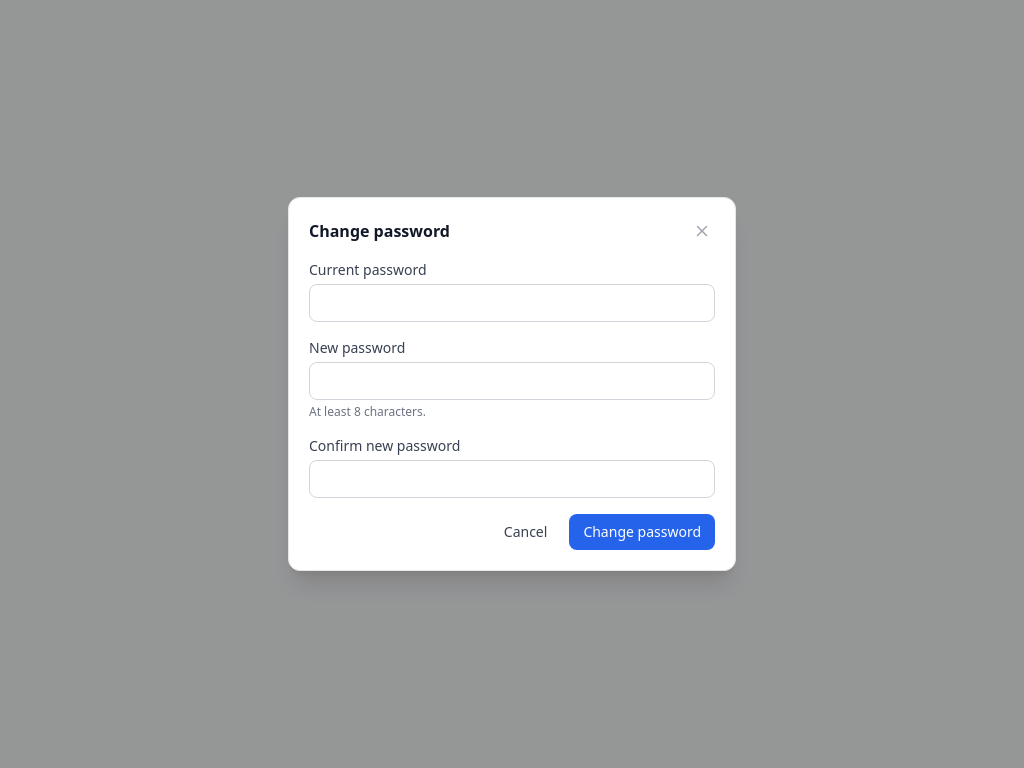
ChangePasswordModal › shows a wrong current password under that field
In the password field labelled "Current password": (512, 303) top-left (309, 284), bottom-right (715, 322), type "old-password"
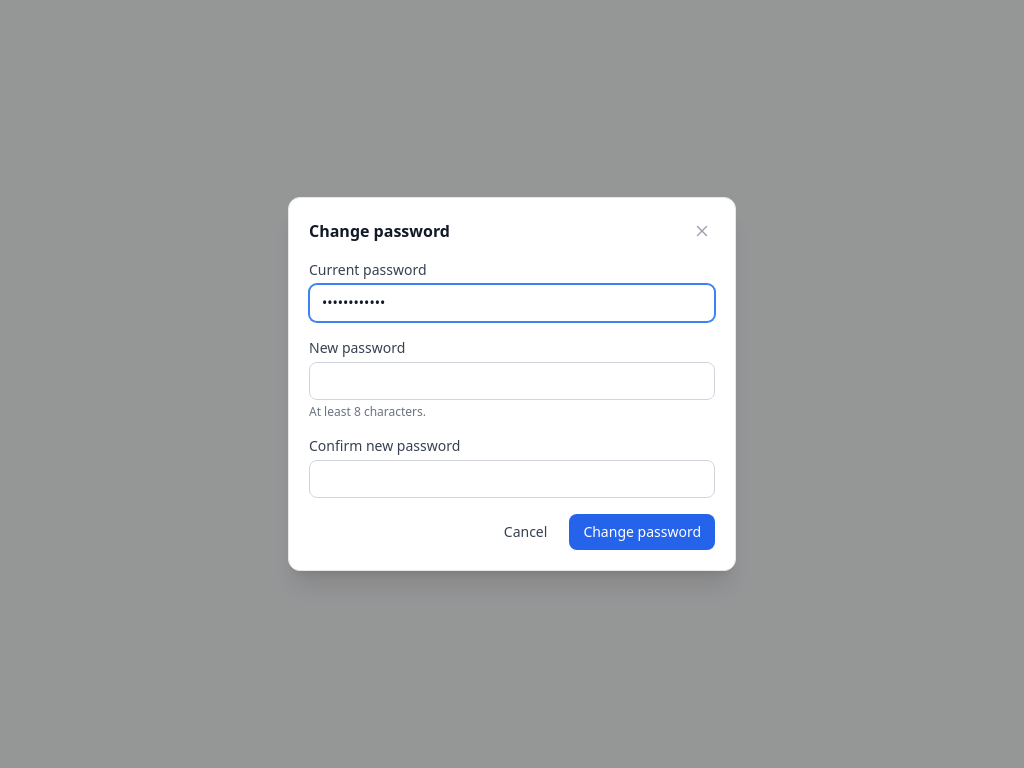
In the password field labelled "New password": (512, 381) top-left (309, 362), bottom-right (715, 400), type "new-password1"
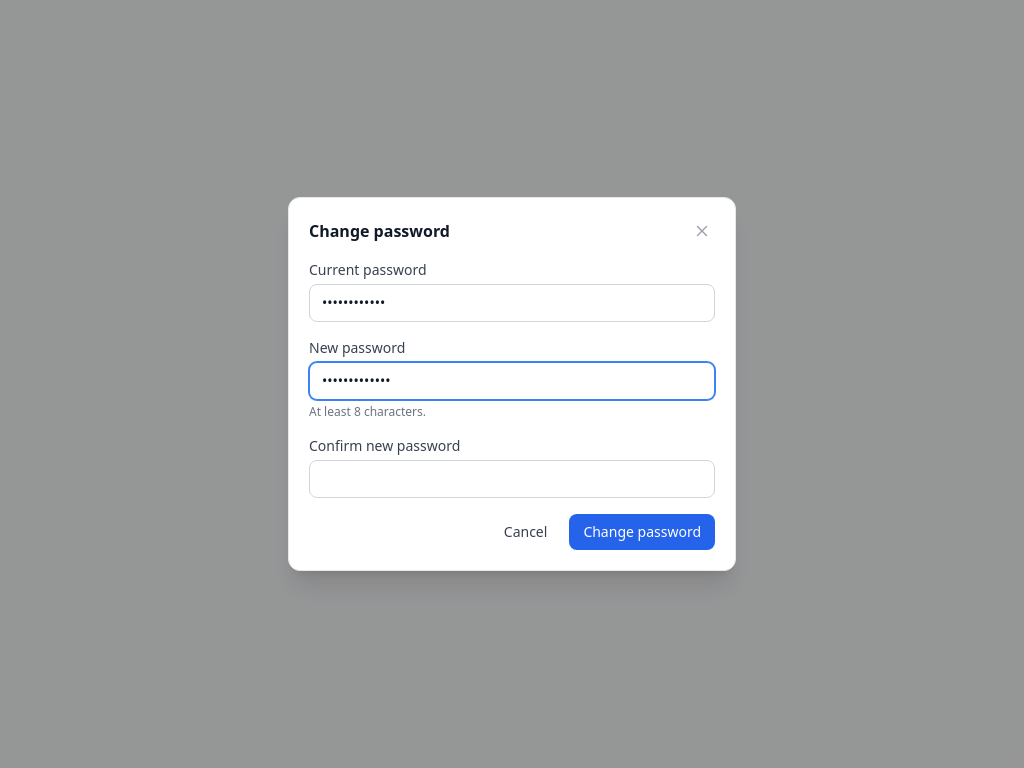
In the password field labelled "Confirm new password": (512, 479) top-left (309, 460), bottom-right (715, 498), type "new-password1"
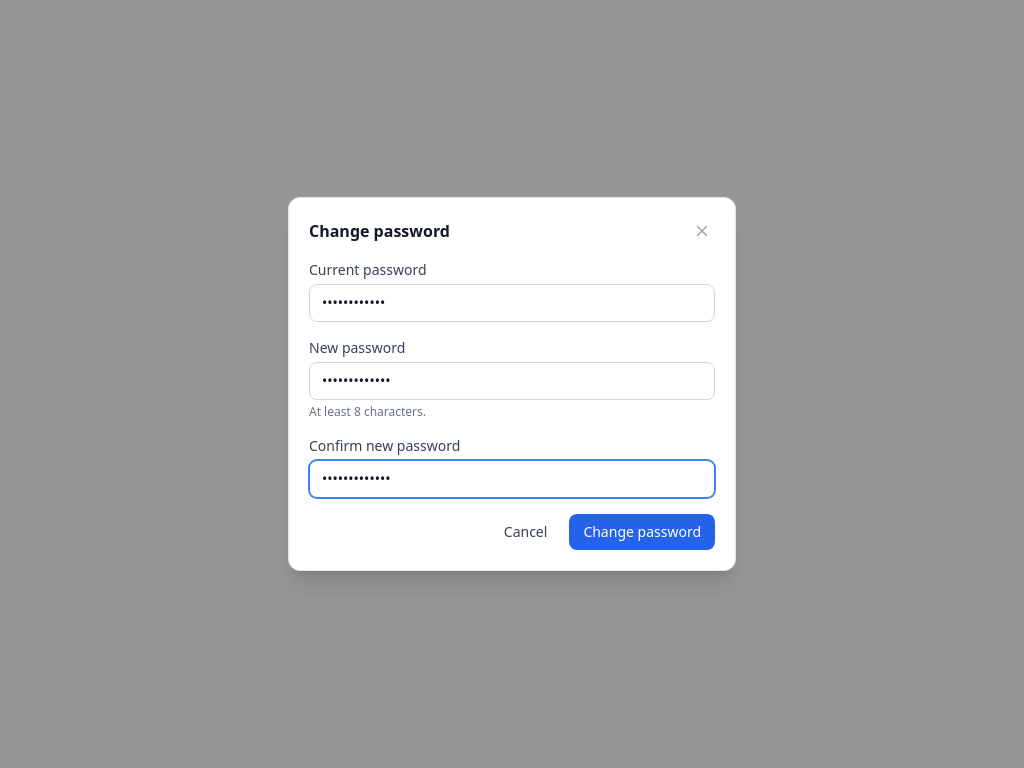
Click the button "Change password": (642, 532) top-left (569, 514), bottom-right (715, 550)
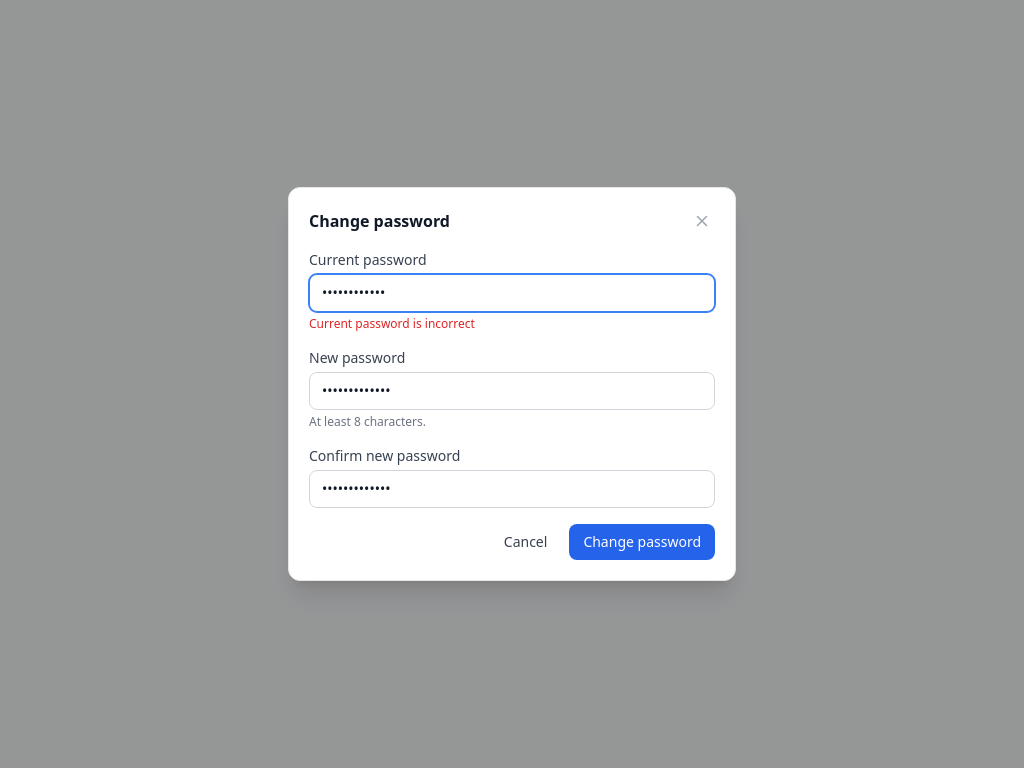
Expected: the text "Current password is incorrect" is shown, top-left (309, 315), bottom-right (475, 332)
